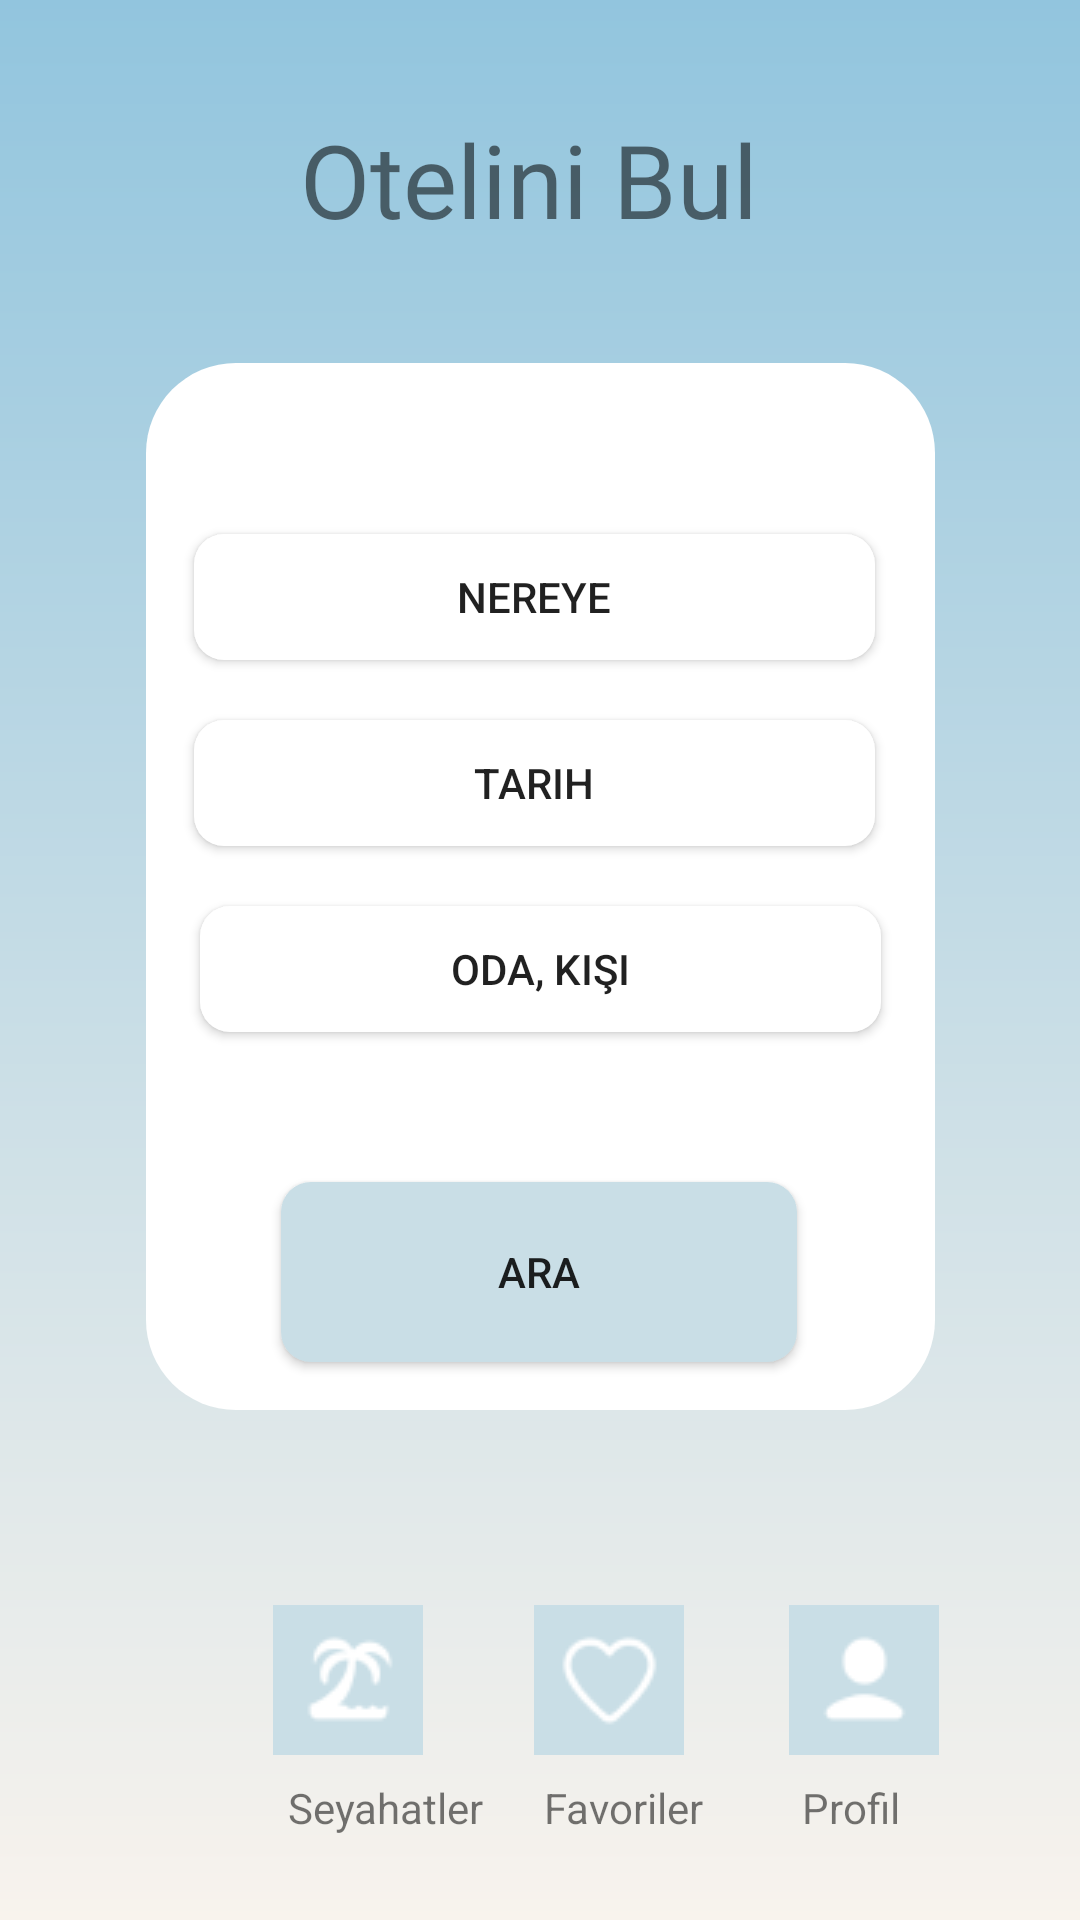

Screen size 1080px x 1920px. Icon name, then its center in pixels as point (x, y):
beach: point (348, 1680)
user: point (864, 1680)
